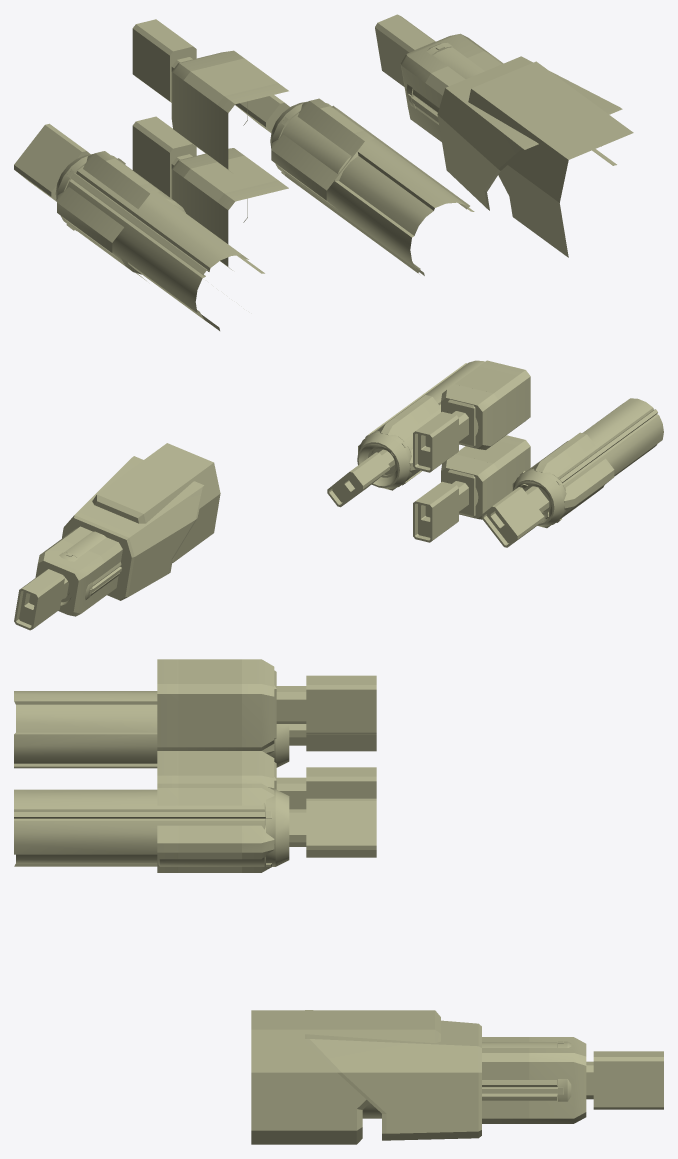
Rendered from WolfhoundWeapons.glb.
The picture shows the model from 3 angles, top to bottom: view 1: azimuth 30°, elevation 25°; view 2: azimuth 150°, elevation 25°; view 3: azimuth 270°, elevation 25°; orthographic projection. The views are drawn at different scales.
Visible parts, largest first — view 1: Forearm_Right_EH1_PPC, Torso_Right_EH1_PPC, Forearm_Right_EH1_Flamer, Torso_Left_EH1_PPC, Torso_Center_EH1_Flamer, Torso_Center_EH2_Flamer, Torso_Center_EH1_Laser, Torso_Right_EH1_Laser, Torso_Left_EH1_Laser, Torso_Center_EH2_Laser, Torso_Left_EH1_Flamer, Forearm_Right_EH1_Laser (+1 smaller); view 2: Forearm_Right_EH1_Flamer, Forearm_Right_EH1_PPC, Torso_Left_EH1_PPC, Torso_Center_EH1_Flamer, Torso_Center_EH2_Flamer, Torso_Center_EH1_Laser, Forearm_Right_EH1_Laser, Torso_Right_EH1_PPC, Torso_Center_EH2_Laser, Torso_Left_EH1_Flamer, Torso_Left_EH1_Laser, Torso_Right_EH1_Flamer (+1 smaller); view 3: Forearm_Right_EH1_PPC, Forearm_Right_EH1_Laser, Torso_Right_EH1_PPC, Torso_Left_EH1_PPC, Torso_Center_EH1_Flamer, Torso_Right_EH1_Flamer, Forearm_Right_EH1_Flamer, Torso_Center_EH2_Flamer, Torso_Center_EH1_Laser, Torso_Right_EH1_Laser, Torso_Center_EH2_Laser, Torso_Left_EH1_Flamer.
Boxes of the visible parts, x1,y1,x2,y2 form: Forearm_Right_EH1_PPC: (406, 42, 633, 257); Torso_Right_EH1_PPC: (270, 101, 474, 275); Forearm_Right_EH1_Flamer: (375, 14, 622, 210); Torso_Left_EH1_PPC: (55, 154, 264, 330); Torso_Center_EH1_Flamer: (132, 19, 277, 125); Torso_Center_EH2_Flamer: (132, 116, 277, 222); Torso_Center_EH1_Laser: (171, 50, 288, 172); Torso_Right_EH1_Laser: (271, 98, 374, 207); Torso_Left_EH1_Laser: (57, 151, 159, 280); Torso_Center_EH2_Laser: (171, 148, 288, 270); Torso_Left_EH1_Flamer: (14, 123, 148, 201); Forearm_Right_EH1_Laser: (401, 33, 491, 141); Forearm_Right_EH1_Flamer: (14, 456, 204, 630); Forearm_Right_EH1_PPC: (59, 443, 220, 599); Torso_Left_EH1_PPC: (512, 398, 663, 526); Torso_Center_EH1_Flamer: (413, 366, 522, 472); Torso_Center_EH2_Flamer: (413, 441, 522, 542); Torso_Center_EH1_Laser: (441, 360, 530, 449); Forearm_Right_EH1_Laser: (35, 515, 122, 616); Torso_Right_EH1_PPC: (357, 360, 484, 488); Torso_Center_EH2_Laser: (441, 435, 530, 519); Torso_Left_EH1_Flamer: (481, 438, 578, 547); Torso_Left_EH1_Laser: (512, 432, 614, 528); Torso_Right_EH1_Flamer: (327, 401, 423, 507); Forearm_Right_EH1_PPC: (251, 1010, 571, 1144); Forearm_Right_EH1_Laser: (305, 1037, 586, 1140); Torso_Right_EH1_PPC: (14, 789, 289, 866); Torso_Left_EH1_PPC: (14, 691, 289, 768); Torso_Center_EH1_Flamer: (178, 659, 376, 747); Torso_Right_EH1_Flamer: (178, 783, 376, 872); Forearm_Right_EH1_Flamer: (305, 1010, 663, 1118); Torso_Center_EH2_Flamer: (178, 751, 376, 809); Torso_Center_EH1_Laser: (157, 659, 274, 750); Torso_Right_EH1_Laser: (157, 783, 274, 872); Torso_Center_EH2_Laser: (157, 751, 274, 789); Torso_Left_EH1_Flamer: (289, 724, 376, 751).
Size of the model in its own units: 0.8474 by 0.3969 by 0.8284.
